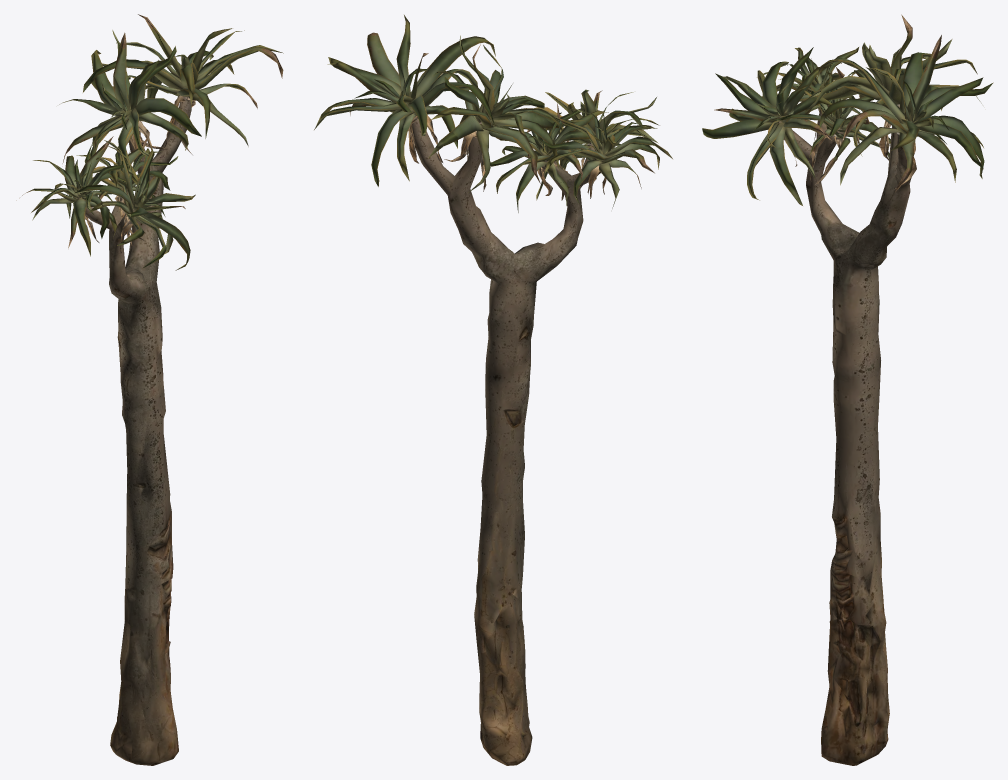
The model's file is m_quiver_tree_01.1b93b4d73b.glb.
The picture shows the model from 3 angles, left to right: view 1: azimuth 30°, elevation 25°; view 2: azimuth 150°, elevation 25°; view 3: azimuth 270°, elevation 25°; orthographic projection. The views are drawn at different scales.
Parts seen in each view (by area): view 1: quiver_tree_01; view 2: quiver_tree_01; view 3: quiver_tree_01.
Boxes of the visible parts, x1=… form: quiver_tree_01: x1=16, y1=14, x2=283, y2=765; quiver_tree_01: x1=314, y1=15, x2=672, y2=765; quiver_tree_01: x1=702, y1=14, x2=993, y2=765.
Bounding box in the file's own units: 1.18 × 2.72 × 0.9615.
2 materials, 2 textured.
